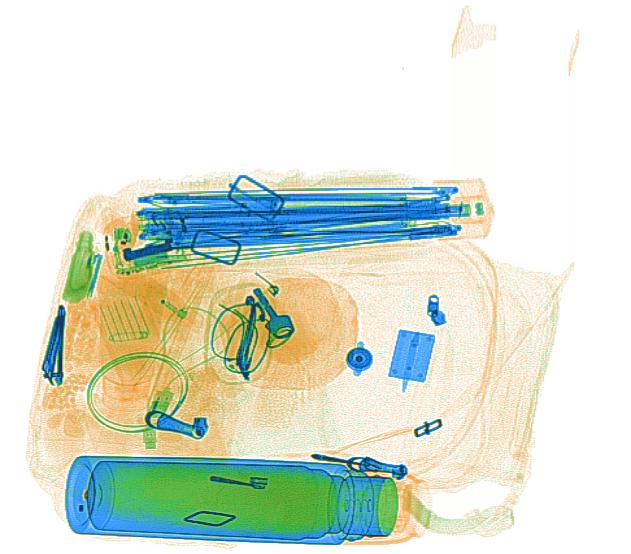lighter: (165, 186, 208, 271)
plasticBottleWithaNozzle: (95, 249, 208, 331)
